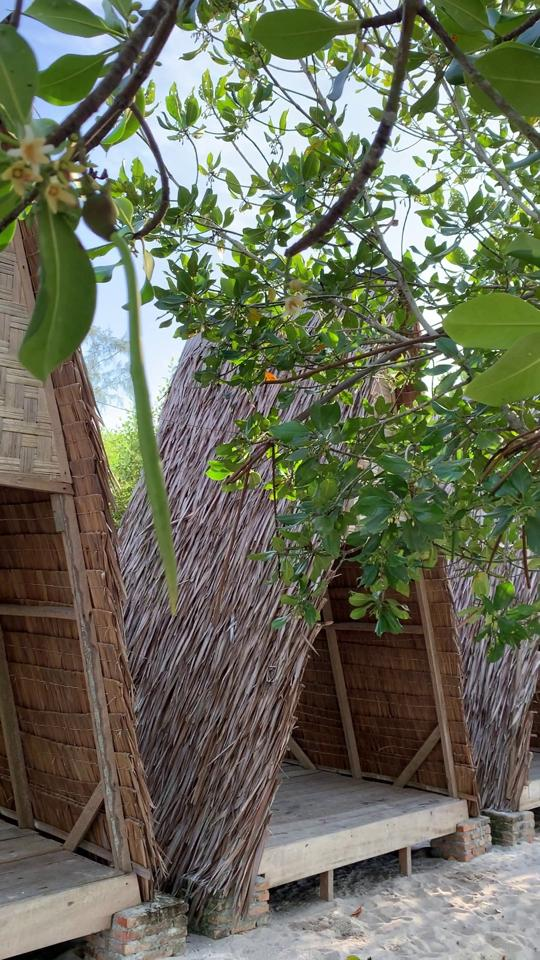mentah: (70, 178, 193, 626)
